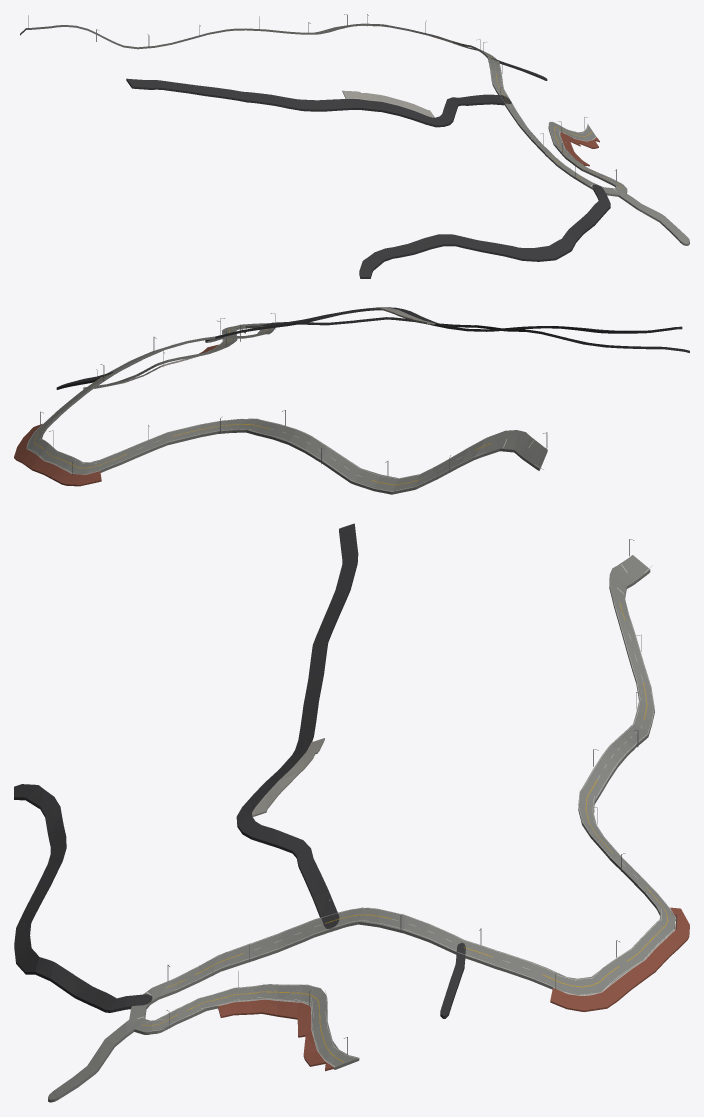
Rendered from 17-109467-59495.e2cadaa8.glb.
3 renders of one model, top to bottom at view 1: azimuth 30°, elevation 25°; view 2: azimuth 150°, elevation 25°; view 3: azimuth 270°, elevation 25°, orthographic. The views are drawn at different scales.
Size of the model in its own units: 297 by 119 by 267.
